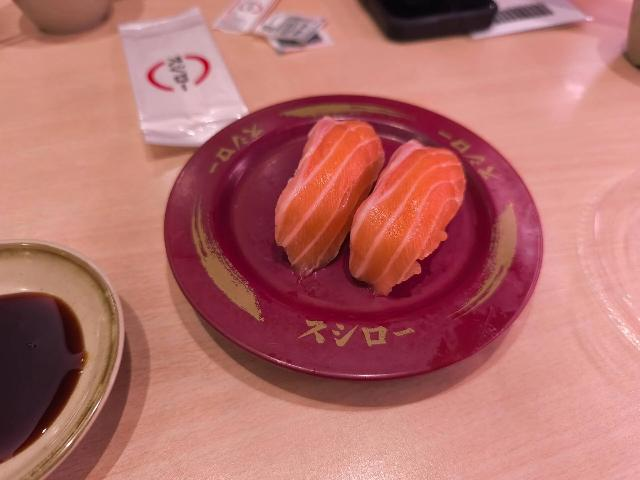janred: (160, 79, 522, 396)
